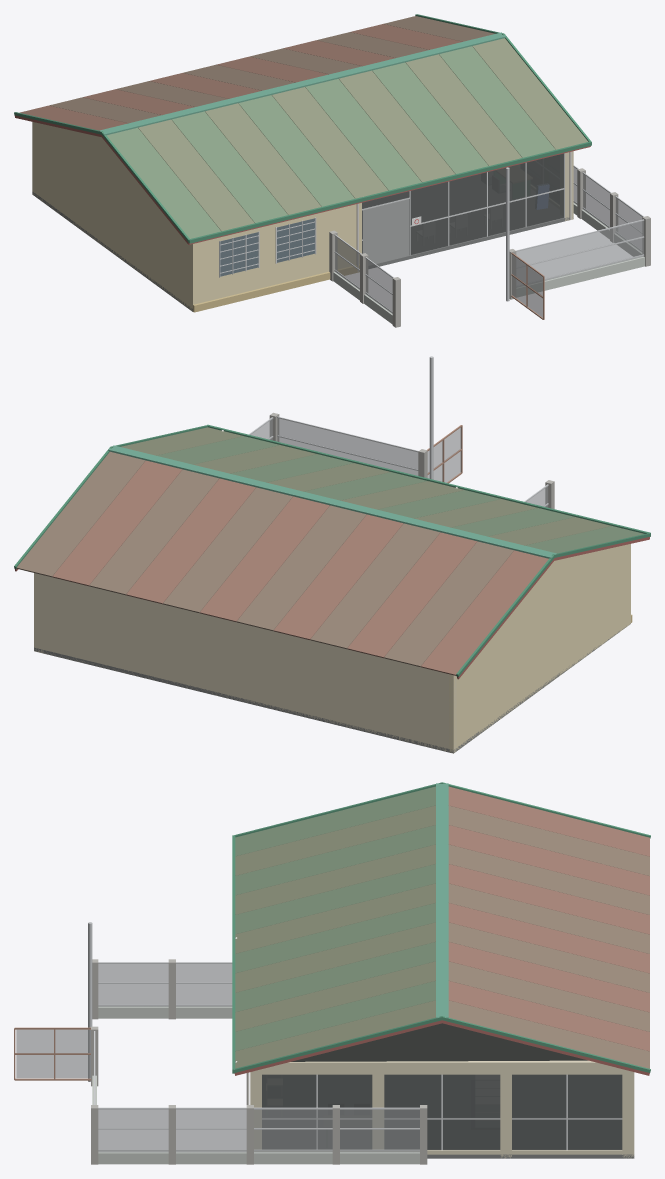
File: warehouse_3.glb
3 renders of one model, top to bottom at view 1: azimuth 30°, elevation 25°; view 2: azimuth 150°, elevation 25°; view 3: azimuth 270°, elevation 25°, orthographic. The views are drawn at different scales.
Parts seen in each view (by area): view 1: WH3_CombinedMesh; view 2: WH3_CombinedMesh; view 3: WH3_CombinedMesh.
Boxes of the visible parts, x1,y1,x2,y2 form: WH3_CombinedMesh: (14, 14, 650, 327); WH3_CombinedMesh: (14, 356, 650, 753); WH3_CombinedMesh: (14, 782, 650, 1164).
Size of the model in its own units: 14.95 by 4.7 by 17.14.
